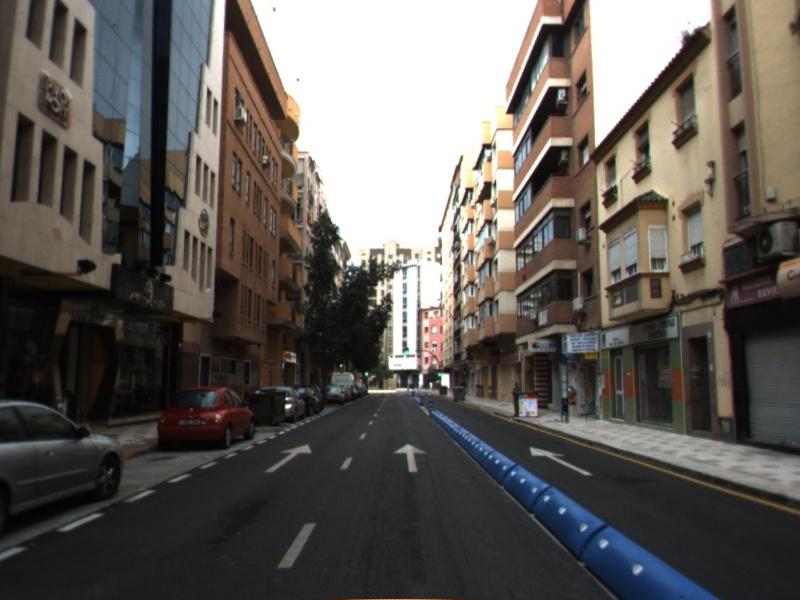STRAIGHT: (528, 445, 594, 477), (263, 442, 313, 474), (392, 442, 428, 474)
